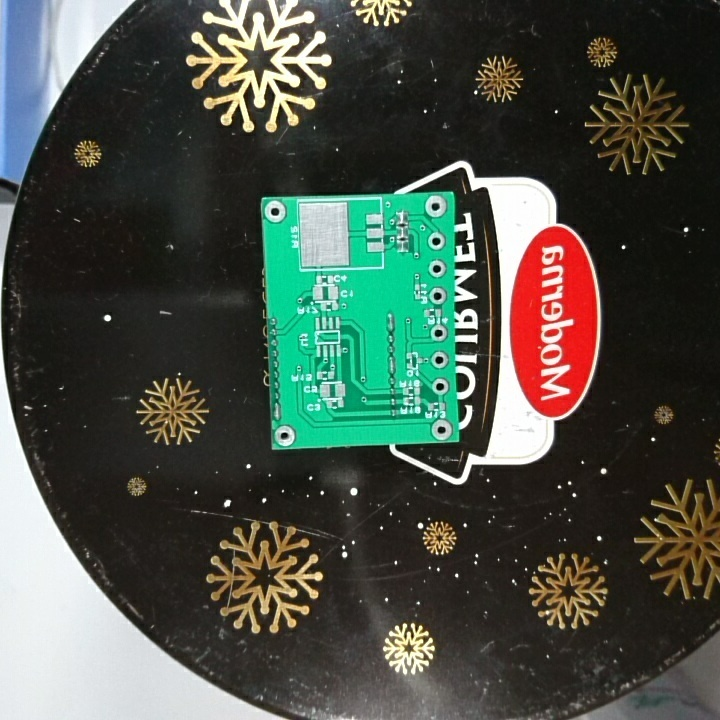F: (262, 199, 288, 226), (423, 194, 451, 219), (428, 418, 455, 442), (273, 423, 298, 447), (425, 230, 448, 252), (426, 258, 449, 280), (427, 322, 451, 343), (426, 285, 448, 307), (430, 348, 450, 371), (431, 375, 451, 397)
P: (385, 309, 397, 335), (270, 400, 282, 421), (386, 354, 397, 375)
